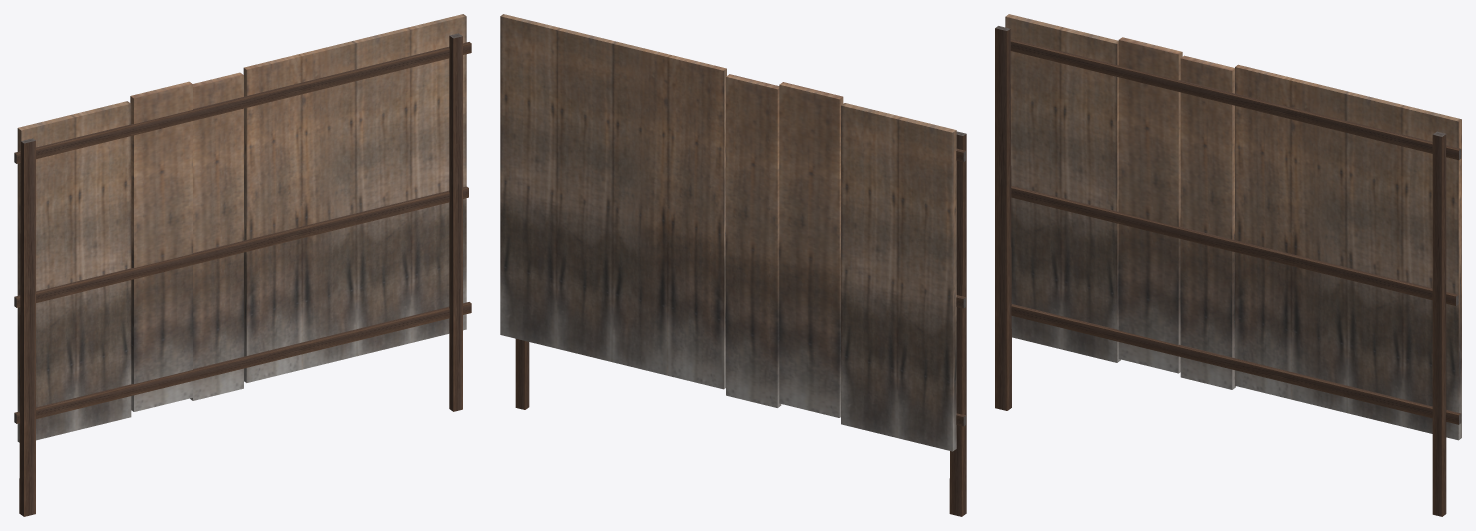
Rendered from fence01b_1t.fbx.
3 views of the same model, side by side, from view 1: azimuth 30°, elevation 25°; view 2: azimuth 150°, elevation 25°; view 3: azimuth 330°, elevation 25° (orthographic).
Parts seen in each view (by area): view 1: fence01b_1t; view 2: fence01b_1t; view 3: fence01b_1t.
Boxes of the visible parts, x1,y1,x2,y2 form: fence01b_1t: [14, 14, 471, 516]; fence01b_1t: [500, 14, 966, 516]; fence01b_1t: [995, 14, 1461, 516].
Size of the model in its own units: 227 by 184 by 8.92.
